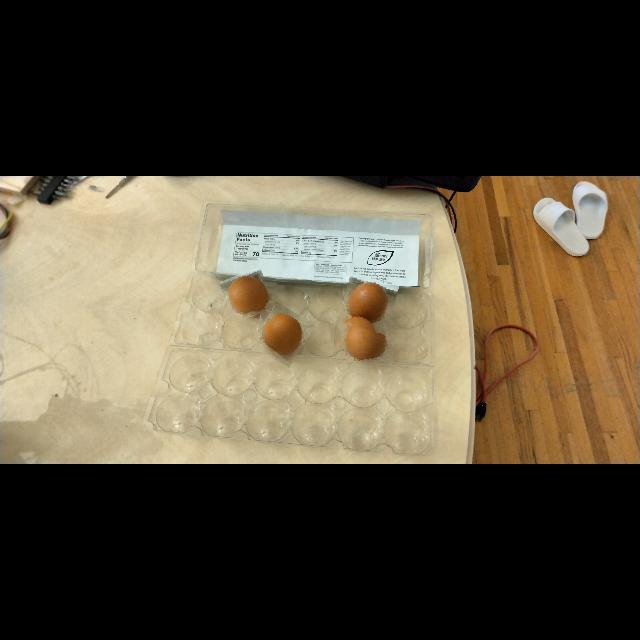Egg: (256, 306, 310, 364), (342, 275, 396, 333), (339, 313, 393, 367), (222, 270, 274, 320)
